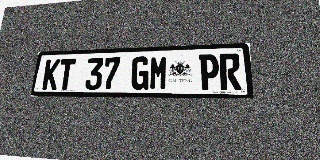3: (84, 58, 104, 90)
7: (101, 57, 120, 90)
G: (130, 56, 150, 90)
K: (42, 59, 61, 90)
M: (149, 55, 168, 90)
P: (199, 54, 220, 90)
R: (219, 53, 242, 90)
T: (57, 58, 76, 90)
